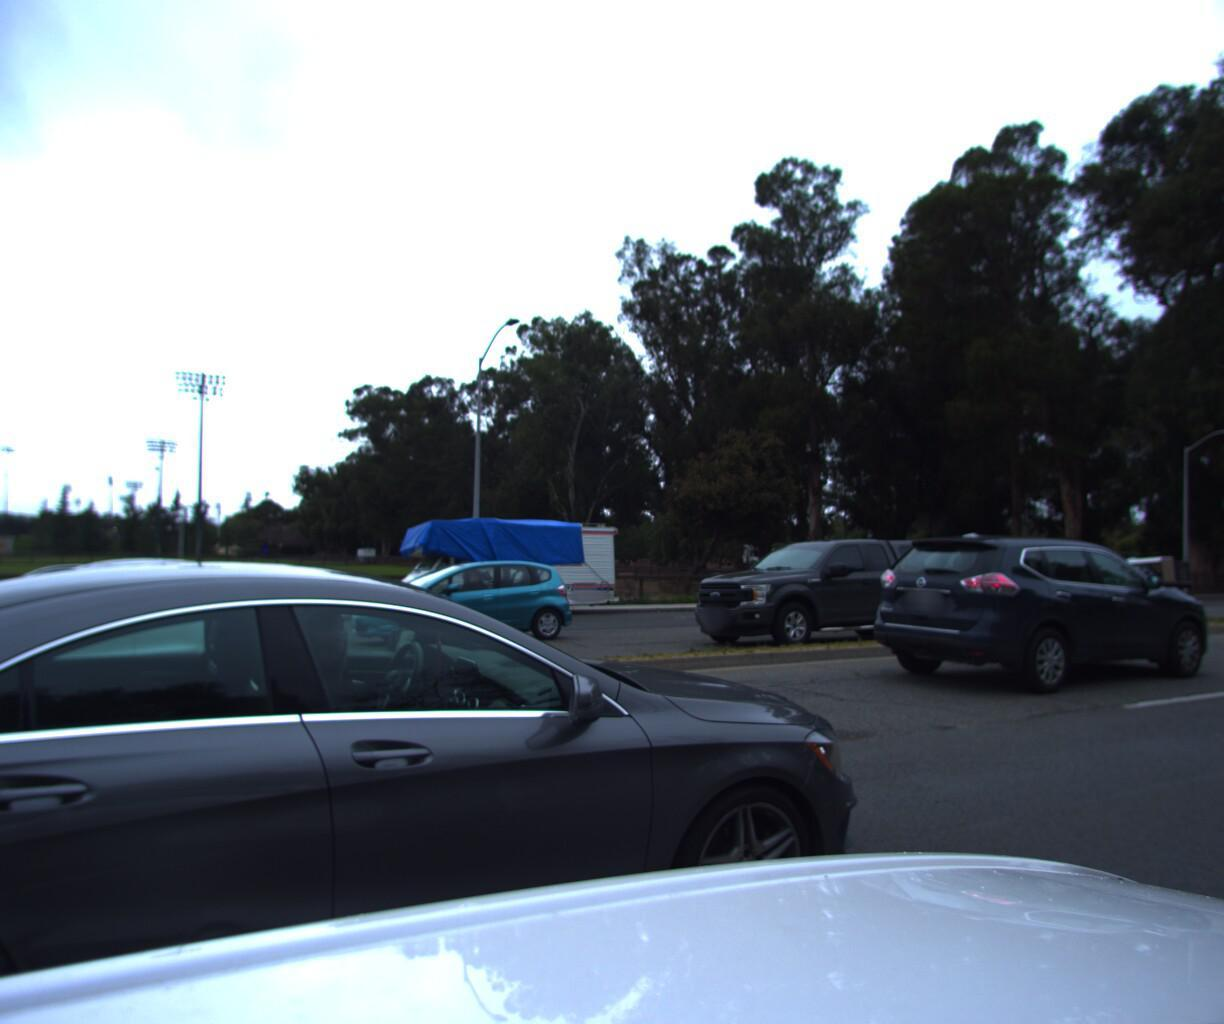car: (0, 571, 922, 1024), (857, 519, 1220, 701), (0, 558, 342, 718), (677, 531, 982, 654), (349, 556, 604, 650), (0, 563, 184, 646), (1070, 542, 1190, 592)
other_vehicle: (382, 510, 628, 625)
